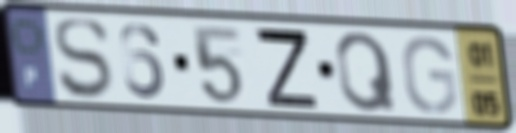5: (188, 23, 249, 106)
6: (117, 21, 169, 102)
G: (399, 33, 460, 117)
Q: (332, 29, 400, 115)
S: (51, 15, 114, 102)
Z: (250, 24, 322, 111)
